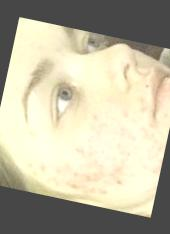Acne: (38, 160, 50, 174), (3, 90, 14, 100), (114, 178, 124, 186), (26, 130, 36, 137), (91, 112, 97, 121), (24, 162, 32, 168), (162, 112, 170, 117), (0, 130, 5, 138)
